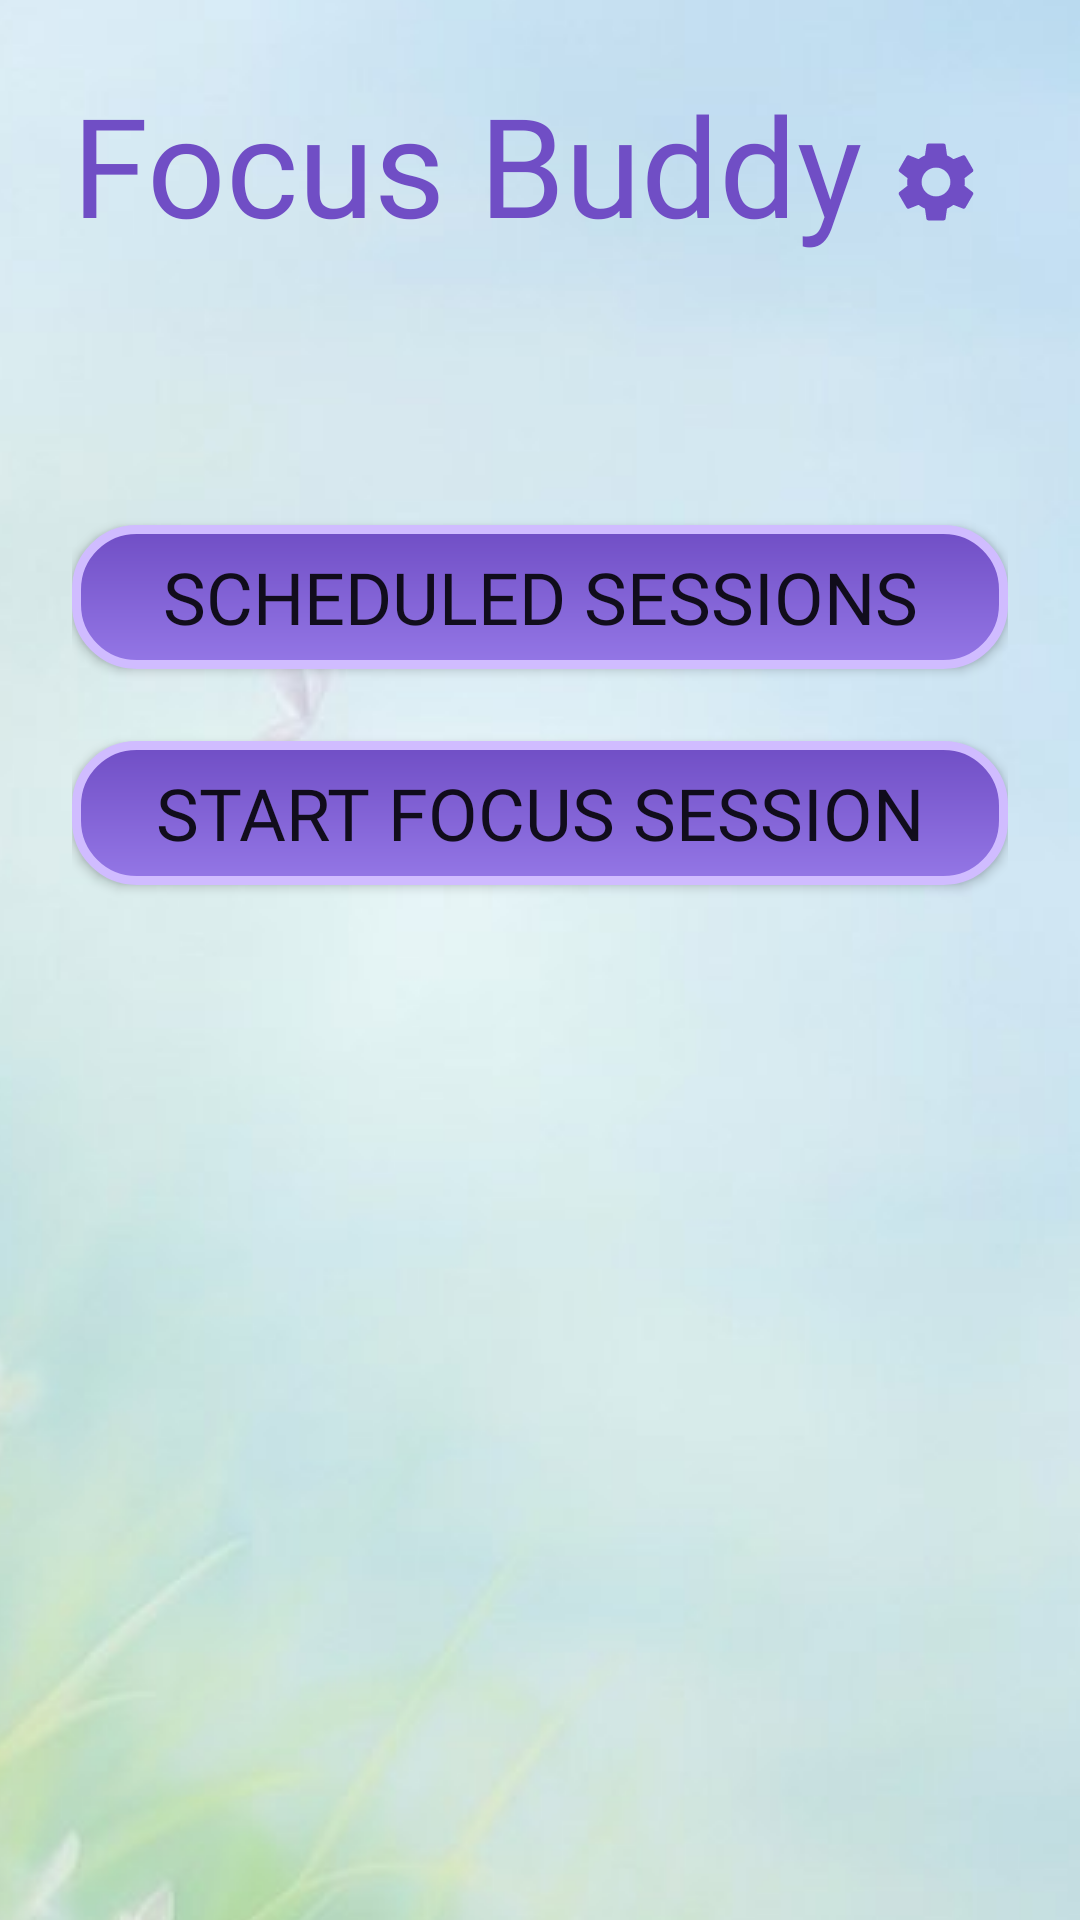

Where icons sit on this 1080 × 1920 app screen, as (x1, y1, x2, y2):
Settings: (898, 143, 974, 221)
